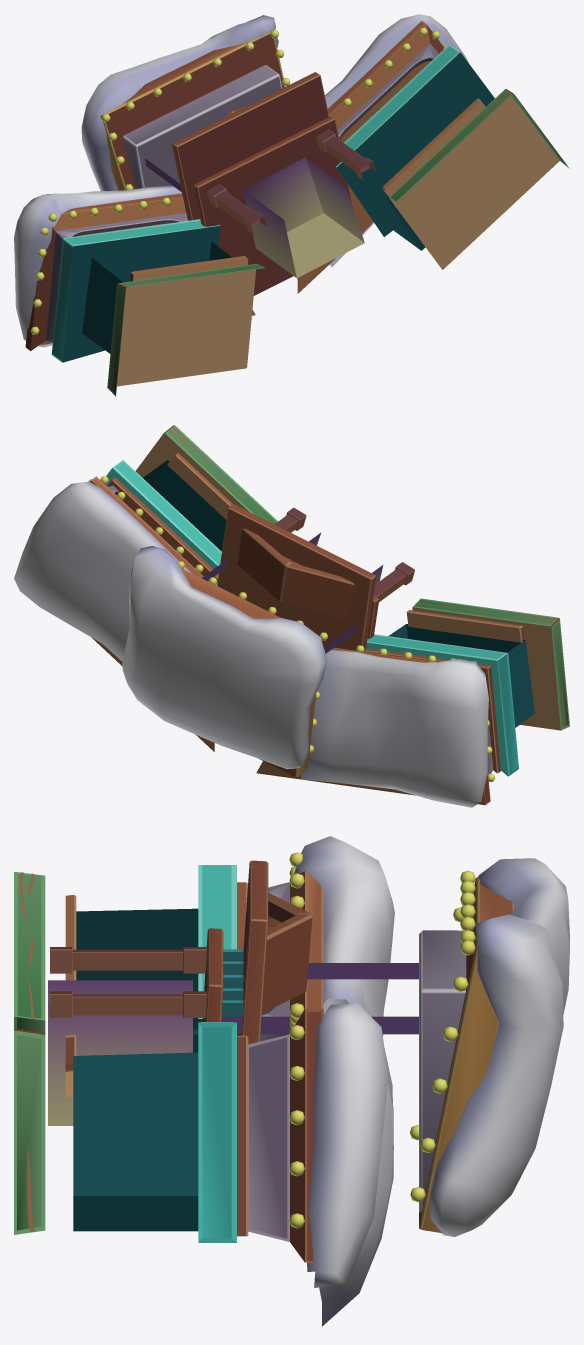
The model's file is DotShop.fbx.
The picture shows the model from 3 angles, top to bottom: view 1: azimuth 30°, elevation 25°; view 2: azimuth 150°, elevation 25°; view 3: azimuth 270°, elevation 25°; orthographic projection. The views are drawn at different scales.
Visible parts, largest first — view 1: DotsStore; view 2: DotsStore; view 3: DotsStore.
Boxes of the visible parts, x1=… form: DotsStore: x1=14, y1=14, x2=569, y2=396; DotsStore: x1=14, y1=425, x2=569, y2=807; DotsStore: x1=14, y1=836, x2=569, y2=1326.
Bounding box in the file's own units: 1084 × 558 × 624.
